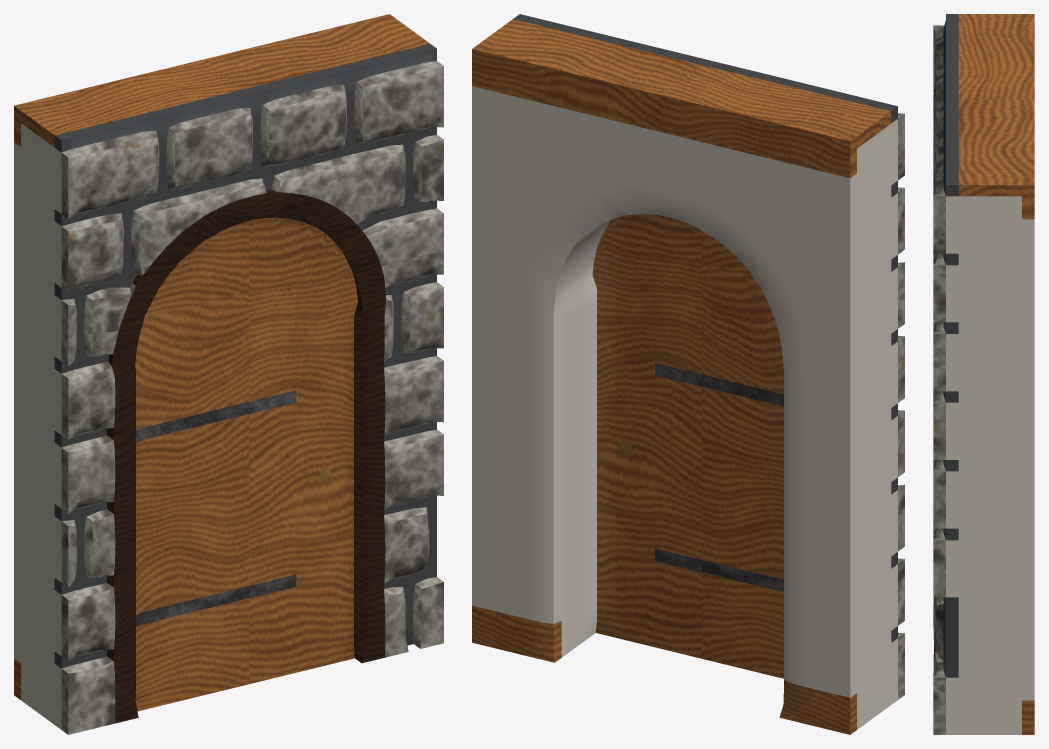
The model's file is wall_out_stone_door.glb.
The picture shows the model from 3 angles, left to right: view 1: azimuth 30°, elevation 25°; view 2: azimuth 150°, elevation 25°; view 3: azimuth 270°, elevation 25°; orthographic projection. The views are drawn at different scales.
Parts seen in each view (by area): view 1: town_wall_out_stone_door; view 2: town_wall_out_stone_door; view 3: town_wall_out_stone_door.
Part boxes in pixels (box(x1,y1,x2,y2)): town_wall_out_stone_door: box(14, 14, 443, 734); town_wall_out_stone_door: box(472, 14, 904, 734); town_wall_out_stone_door: box(933, 14, 1034, 734).
Bounding box in the file's own units: 1 × 1.5 × 0.25.
3 materials, 1 textured.
